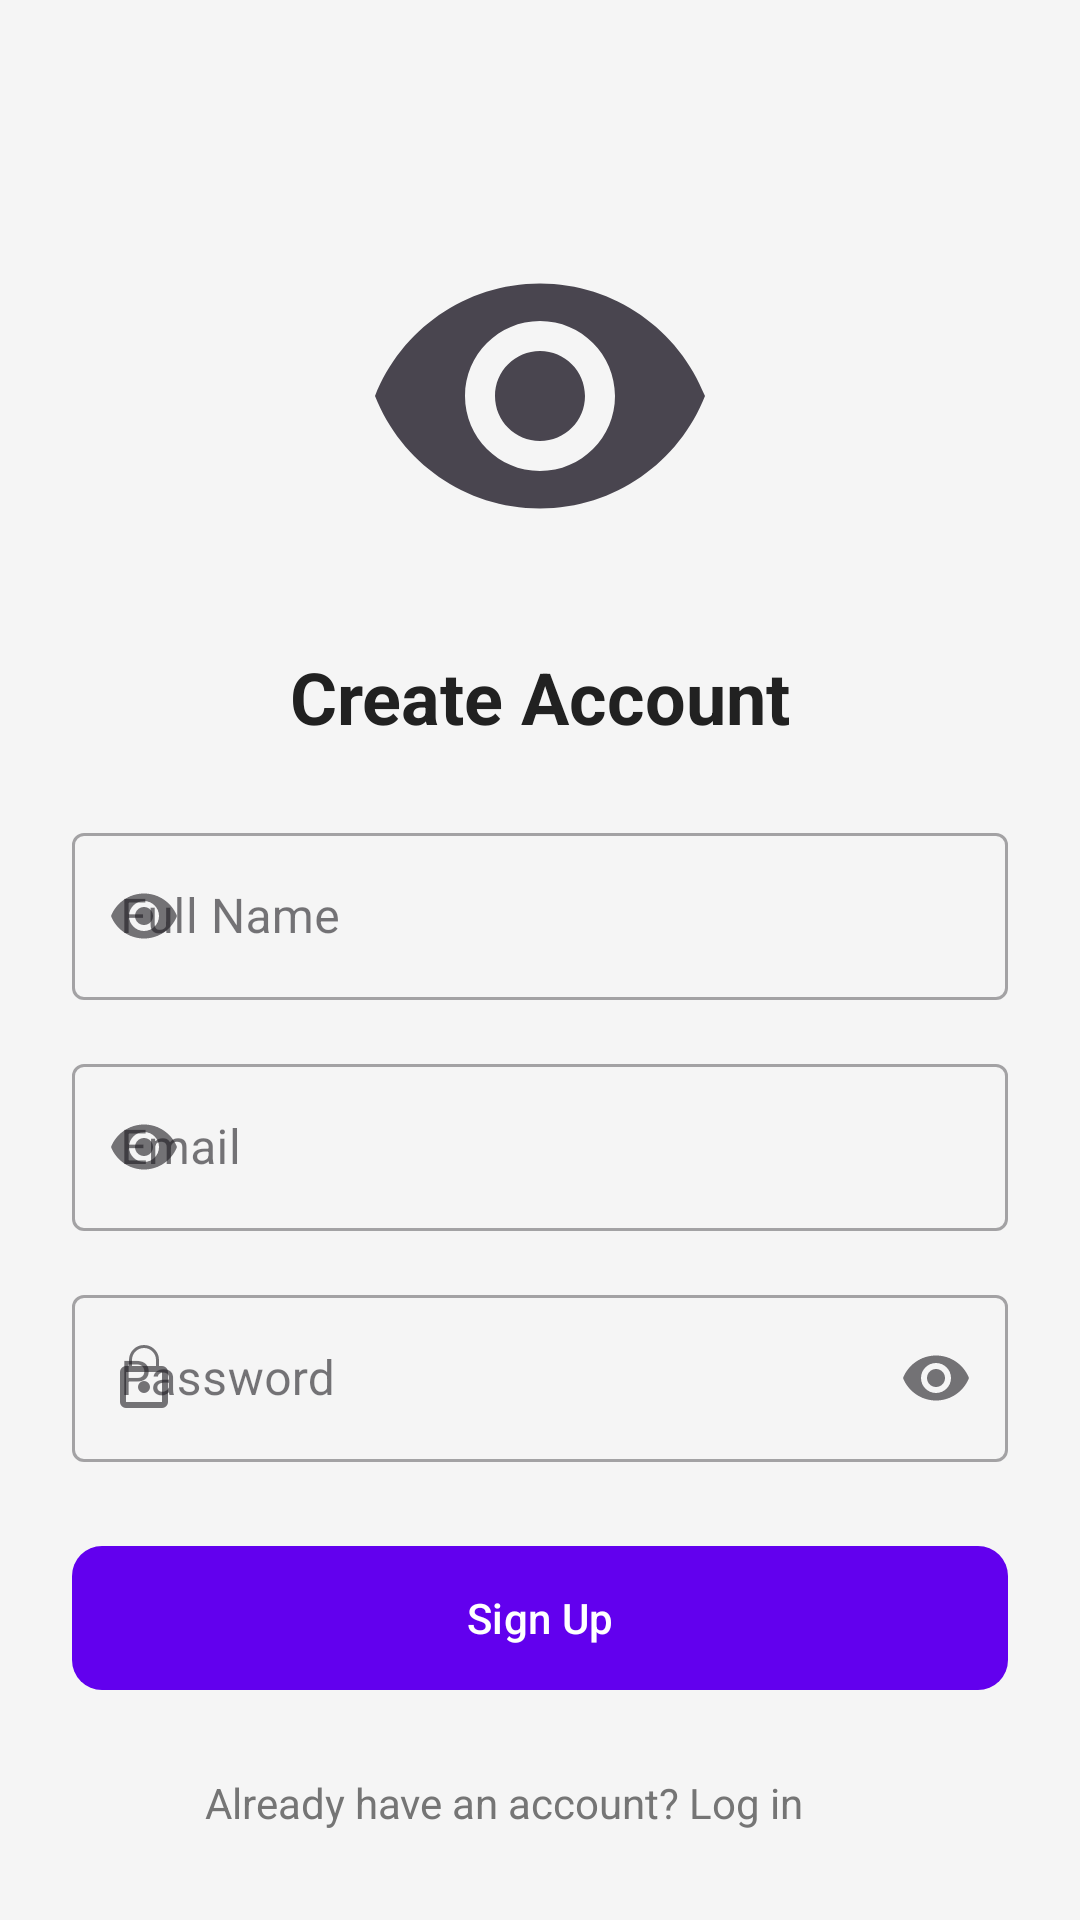

Where to tap for icons on this 1080px×1920px app screen, as (x,y):
eye: (540,396)
